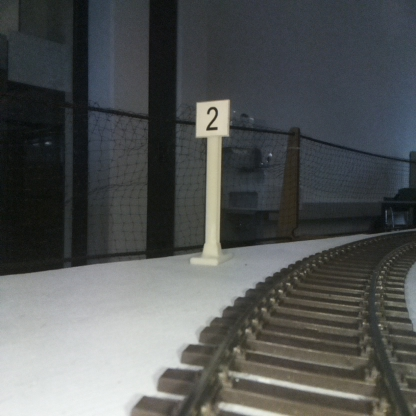white-info-2: (195, 99, 228, 263)
